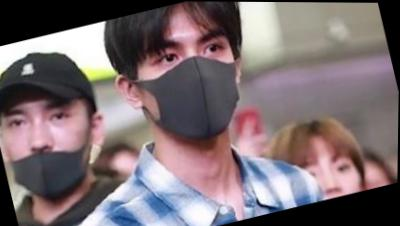NONE: (286, 143, 362, 208)
OK: (124, 13, 254, 153)
WRONG: (1, 83, 110, 209)
